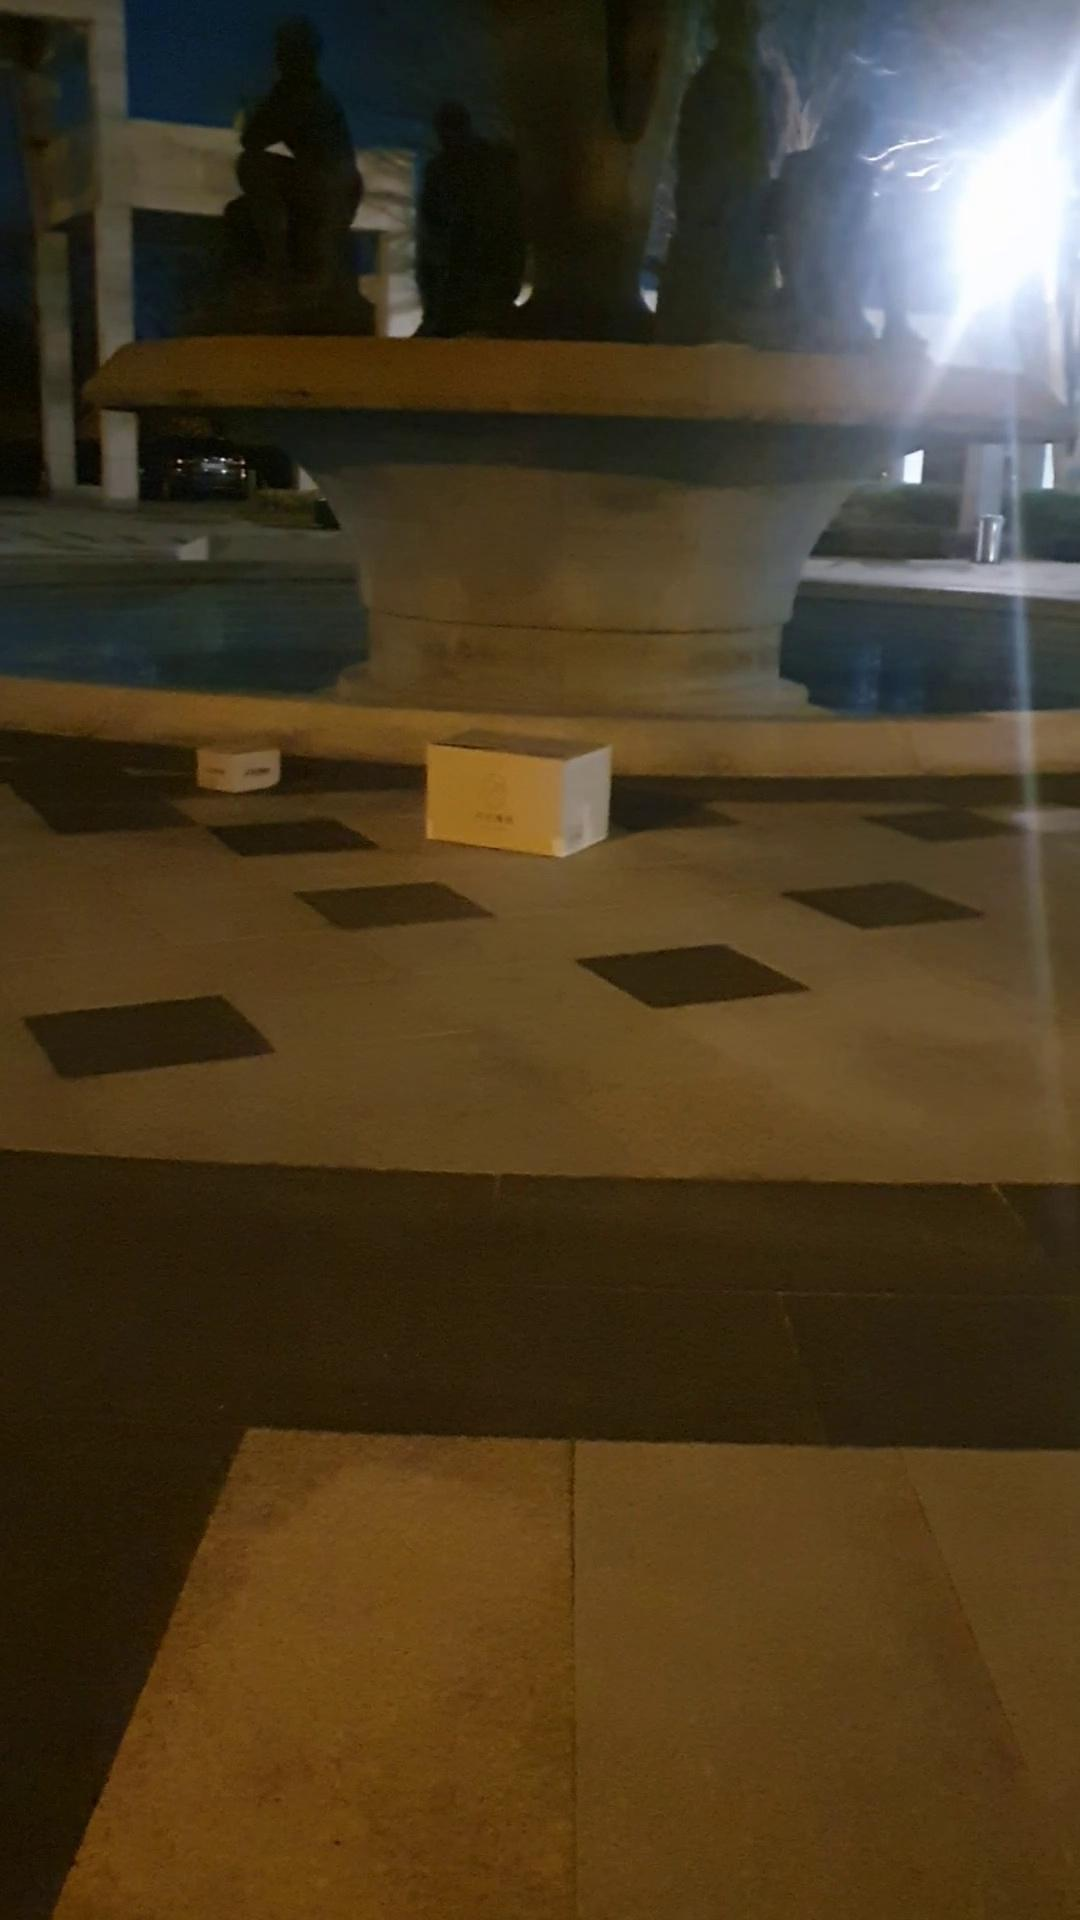Box: (418, 708, 632, 870), (183, 720, 287, 818)
